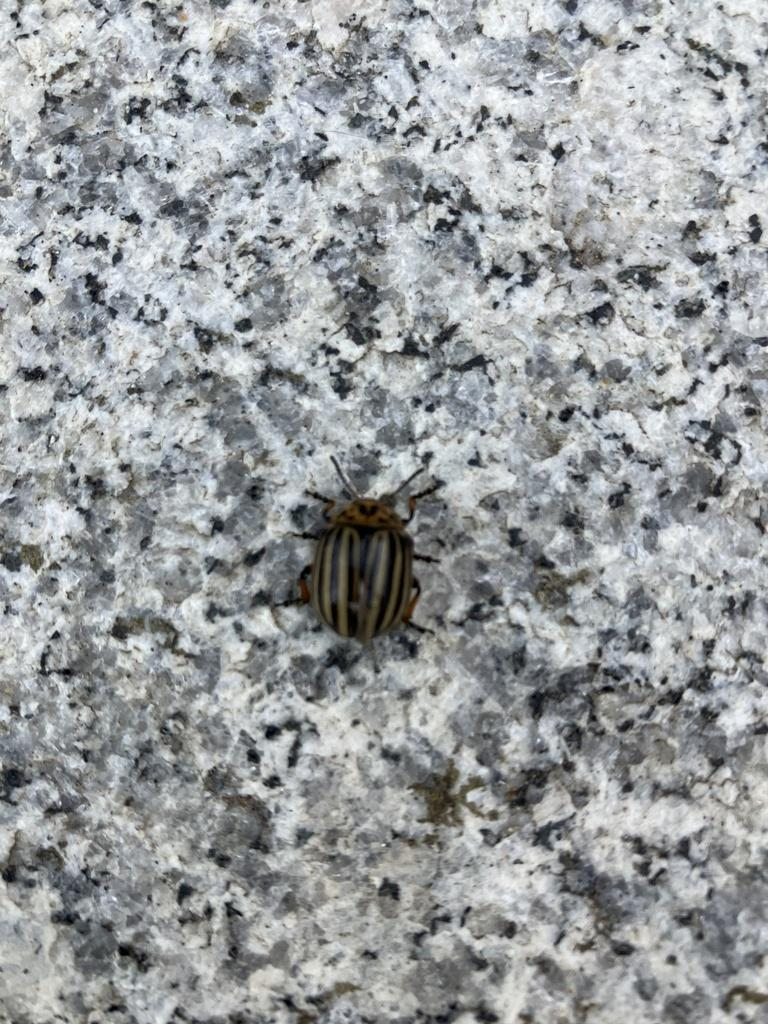potato_beetle: (266, 437, 486, 667)
